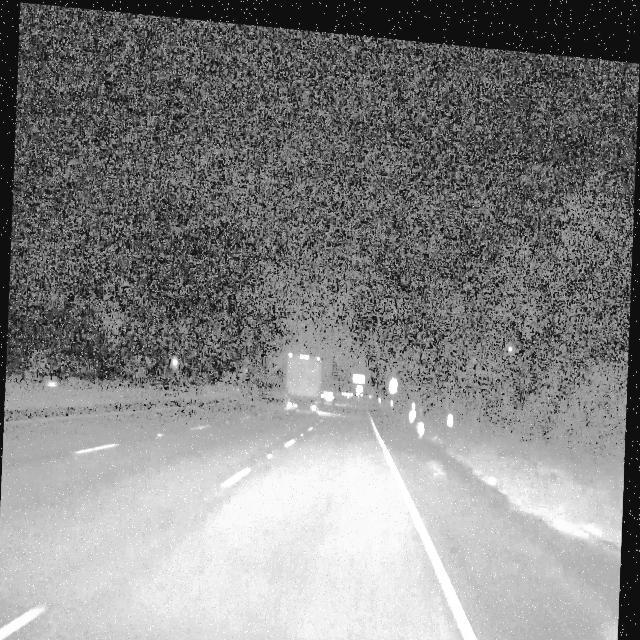Truck: (288, 346, 326, 409)
